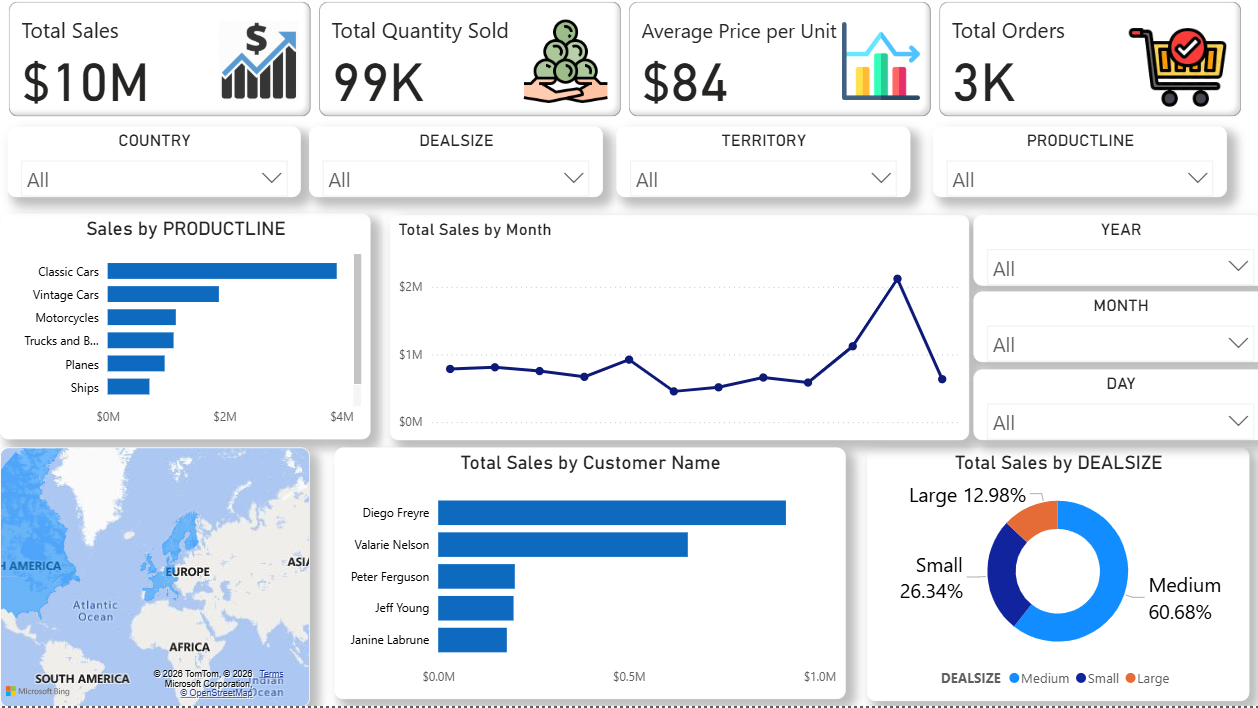

The page's visual inventory and layout, read from the dashboard file:
{"tool":"powerbi","page":{"name":"Page 1","canvas":[1280,720],"ordinal":0},"visuals":[{"type":"cardVisual","fields":{"Data":["sales_data_sample.total sales","sales_data_sample.Total Quantity Sold","sales_data_sample.Average Price per Unit","sales_data_sample.Total Orders"]},"box":[0,0,1262,134.3],"z":0},{"type":"barChart","title":"Sales by PRODUCTLINE","fields":{"Category":["sales_data_sample.PRODUCTLINE"],"Y":["sales_data_sample.total sales"]},"box":[0,222.6,374,228],"z":1000},{"type":"donutChart","fields":{"Y":["sales_data_sample.total sales"],"Category":["sales_data_sample.DEALSIZE"]},"box":[875.2,458.9,385.8,255.9],"z":2000},{"type":"lineChart","fields":{"Category":["sales_data_sample.ORDERDATE.1.Variation.Date Hierarchy.Month","sales_data_sample.ORDERDATE.1.Variation.Date Hierarchy.Day"],"Y":["sales_data_sample.Total Sales"]},"box":[394,223.4,584.8,227.4],"z":3000},{"type":"filledMap","fields":{"Category":["sales_data_sample.COUNTRY"]},"box":[0,458.9,312.7,262],"z":4000},{"type":"barChart","fields":{"Y":["sales_data_sample.Total Sales"],"Category":["sales_data_sample.Customer Name"]},"box":[337.1,458.9,515.8,253.8],"z":5000},{"type":"slicer","title":"COUNTRY","fields":{"Values":["sales_data_sample.COUNTRY"]},"box":[7.5,134.7,296,71.1],"z":6000},{"type":"slicer","title":"DEALSIZE","fields":{"Values":["sales_data_sample.DEALSIZE"]},"box":[312.1,134.7,296.5,71.1],"z":7000},{"type":"slicer","title":"TERRITORY","fields":{"Values":["sales_data_sample.TERRITORY"]},"box":[622.8,134.7,296.5,71.1],"z":8000},{"type":"slicer","title":"PRODUCTLINE","fields":{"Values":["sales_data_sample.PRODUCTLINE"]},"box":[941.6,134.7,296.5,71.1],"z":9000},{"type":"slicer","title":"YEAR","fields":{"Values":["sales_data_sample.ORDERDATE.1.Variation.Date Hierarchy.Year"]},"box":[983.1,223.8,296.9,71.6],"z":10000},{"type":"slicer","title":"MONTH","fields":{"Values":["sales_data_sample.ORDERDATE.1.Variation.Date Hierarchy.Month"]},"box":[983.1,301.3,296.9,71.6],"z":11000},{"type":"slicer","title":"DAY","fields":{"Values":["sales_data_sample.ORDERDATE.1.Variation.Date Hierarchy.Day"]},"box":[983.1,380.4,296.9,71.6],"z":12000}]}

Visuals, with their boxes in screenshot pixels (x1, y1, x2, y2), scaled from the page's 1280x720 canvas onto the 1258x708 screenshot:
cardVisual - sales_data_sample.total sales x sales_data_sample.Total Quantity Sold: detection(0, 0, 1240, 132)
"Sales by PRODUCTLINE" barChart: detection(0, 219, 368, 443)
donutChart - sales_data_sample.total sales x sales_data_sample.DEALSIZE: detection(860, 451, 1239, 703)
lineChart - sales_data_sample.ORDERDATE.1.Variation.Date Hierarchy.Month x sales_data_sample.ORDERDATE.1.Variation.Date Hierarchy.Day: detection(387, 220, 962, 443)
filledMap - sales_data_sample.COUNTRY: detection(0, 451, 307, 707)
barChart - sales_data_sample.Total Sales x sales_data_sample.Customer Name: detection(331, 451, 838, 701)
"COUNTRY" slicer: detection(7, 132, 298, 202)
"DEALSIZE" slicer: detection(307, 132, 598, 202)
"TERRITORY" slicer: detection(612, 132, 903, 202)
"PRODUCTLINE" slicer: detection(925, 132, 1217, 202)
"YEAR" slicer: detection(966, 220, 1257, 290)
"MONTH" slicer: detection(966, 296, 1257, 367)
"DAY" slicer: detection(966, 374, 1257, 444)
